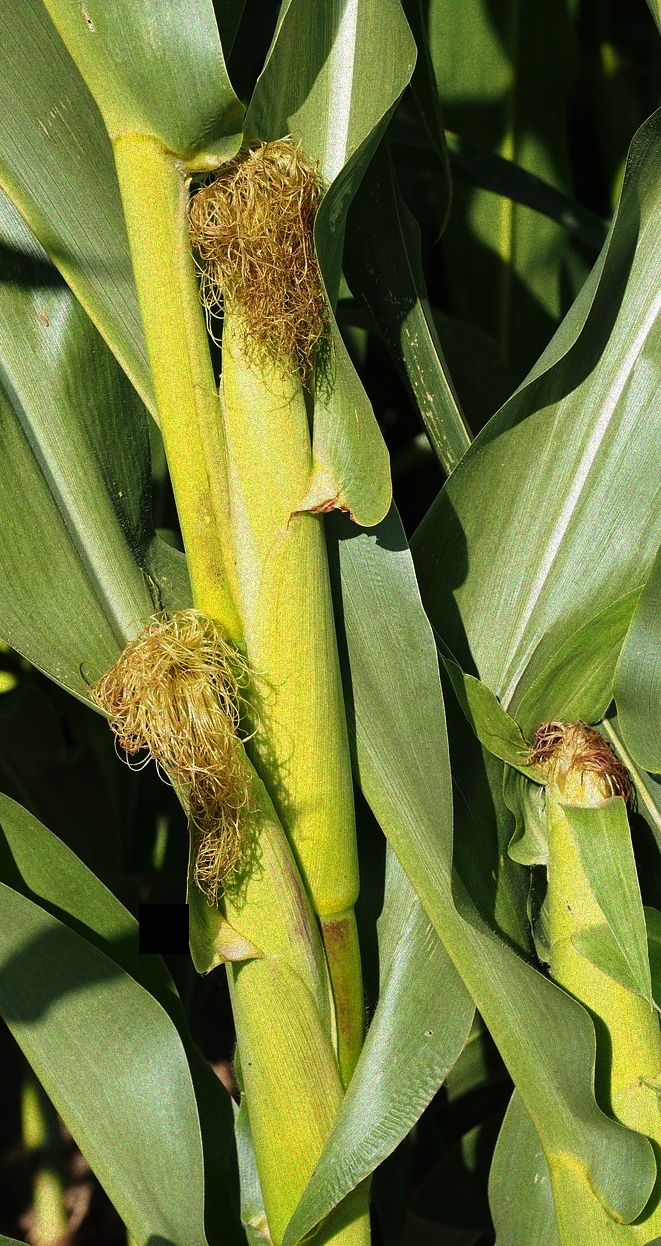corn_plant: (105, 643, 361, 1246), (181, 172, 368, 948)
